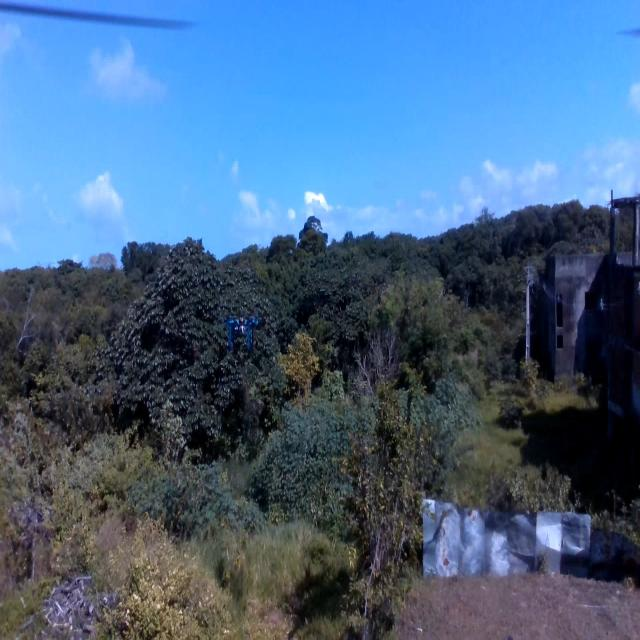-uav-: (222, 310, 258, 352)
